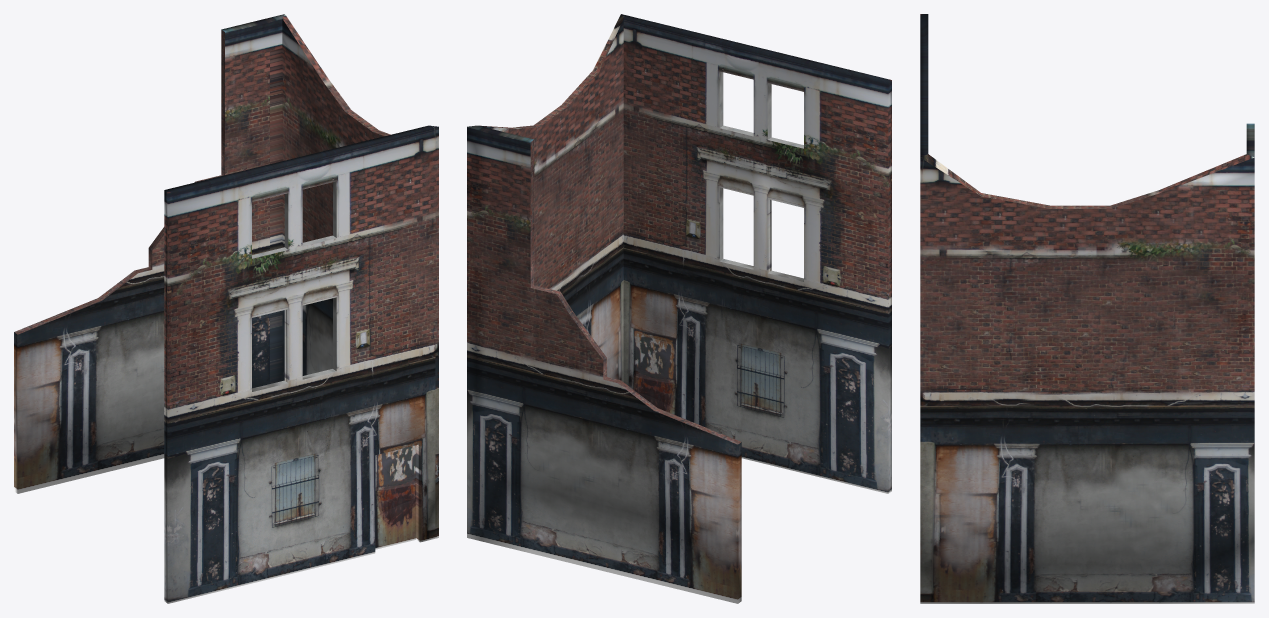
File: building17.obj
3 renders of one model, left to right at view 1: azimuth 30°, elevation 25°; view 2: azimuth 150°, elevation 25°; view 3: azimuth 270°, elevation 25°, orthographic. The views are drawn at different scales.
Visible parts, largest first — view 1: def_surf_mat; view 2: def_surf_mat; view 3: def_surf_mat.
Part boxes in pixels (bbox=[...]): def_surf_mat: bbox=[14, 14, 438, 603]; def_surf_mat: bbox=[467, 14, 891, 603]; def_surf_mat: bbox=[920, 14, 1254, 603].
Bounding box in the file's own units: 239 × 346 × 235.
1 material, 1 textured.
